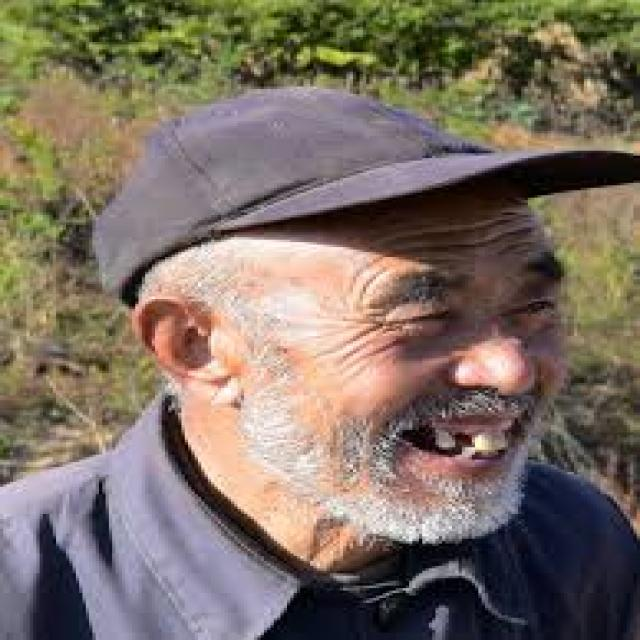3_gorra: (95, 86, 640, 298)
